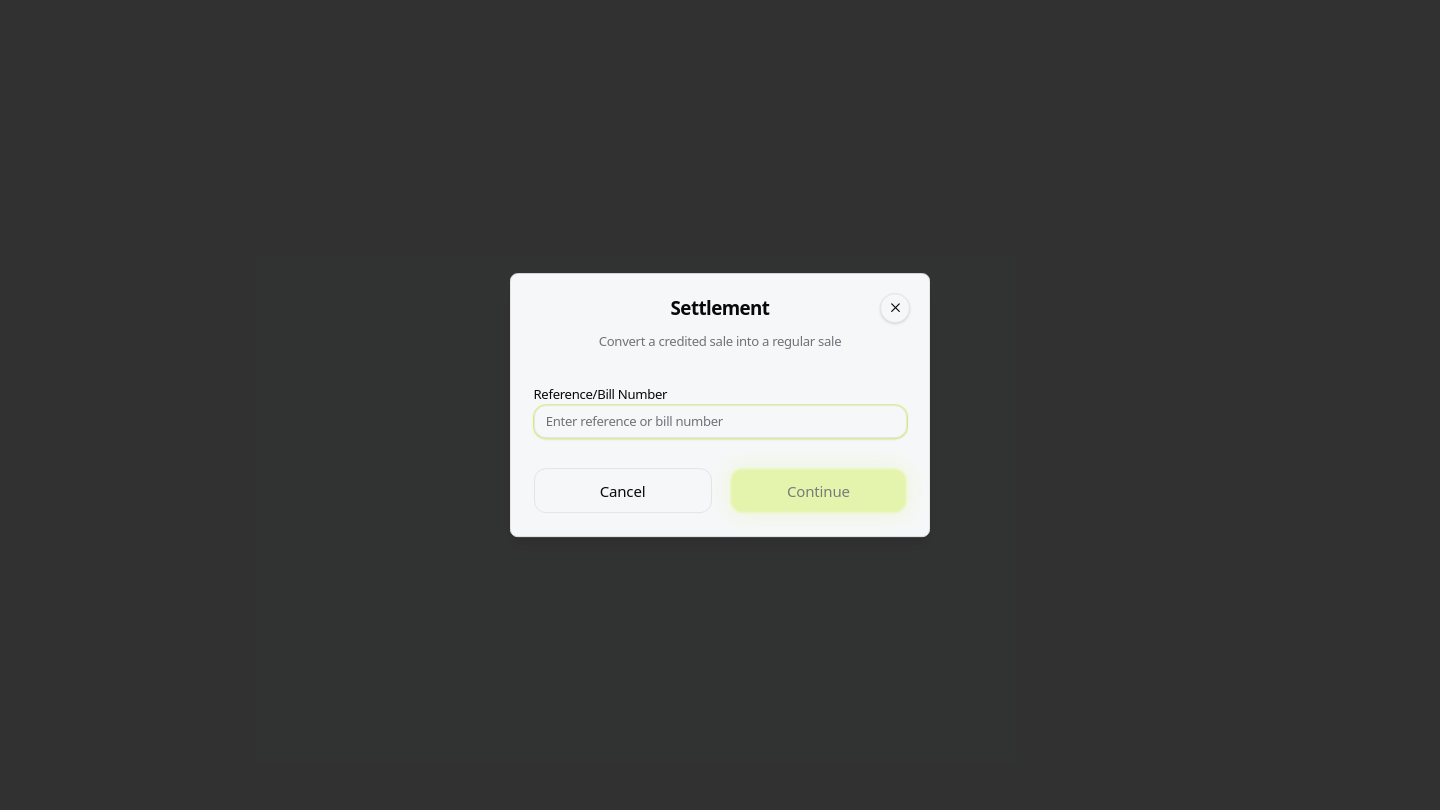
SettlementDialog - settlement payment options › shows cash, card, and mobile pay choices on the confirm step
Type "A011230926" into the field with placeholder "Enter reference or bill number".
click(720, 422); type("A011230926")  # box [534,405,906,438]
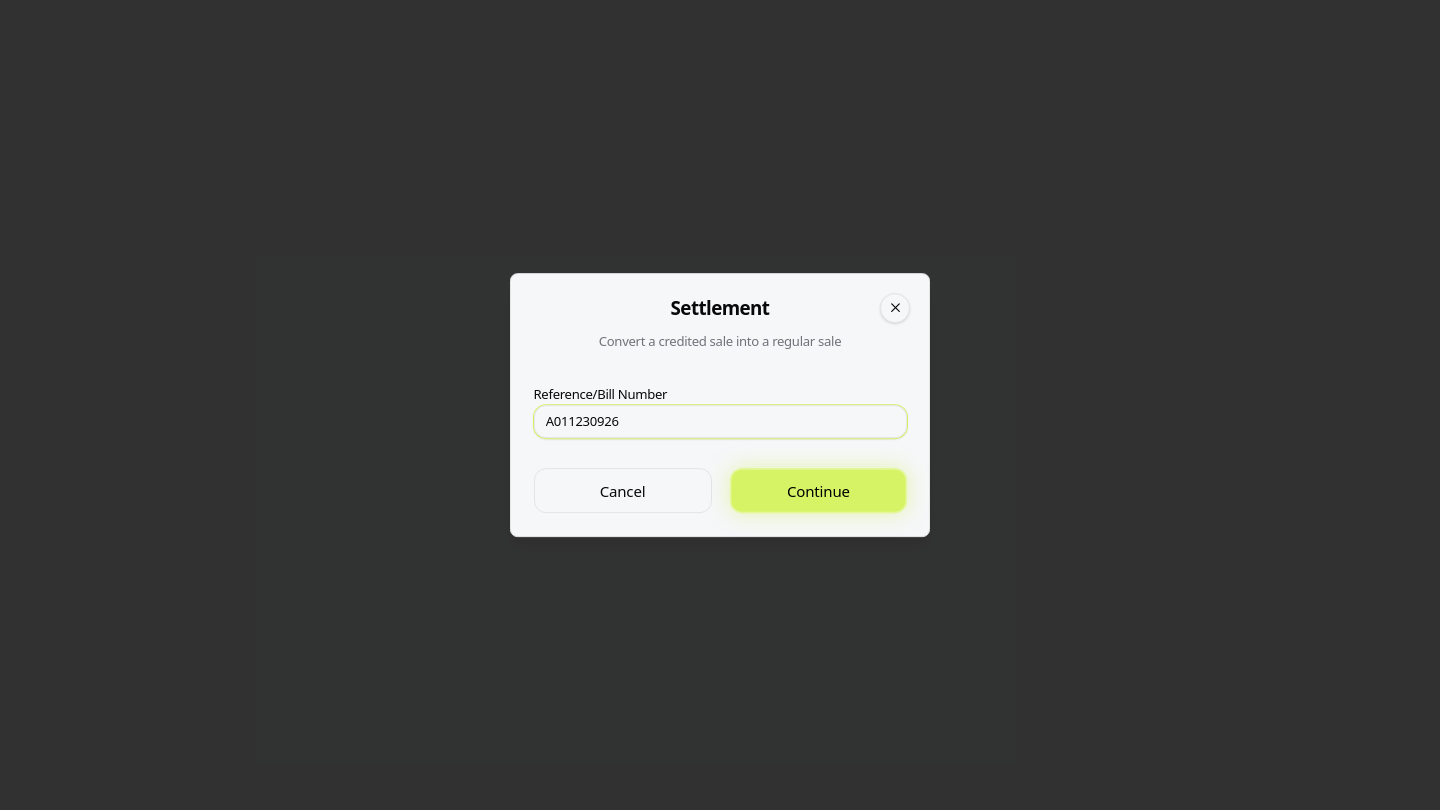
Click the button "Continue".
click(818, 491)  # box [730,468,906,513]
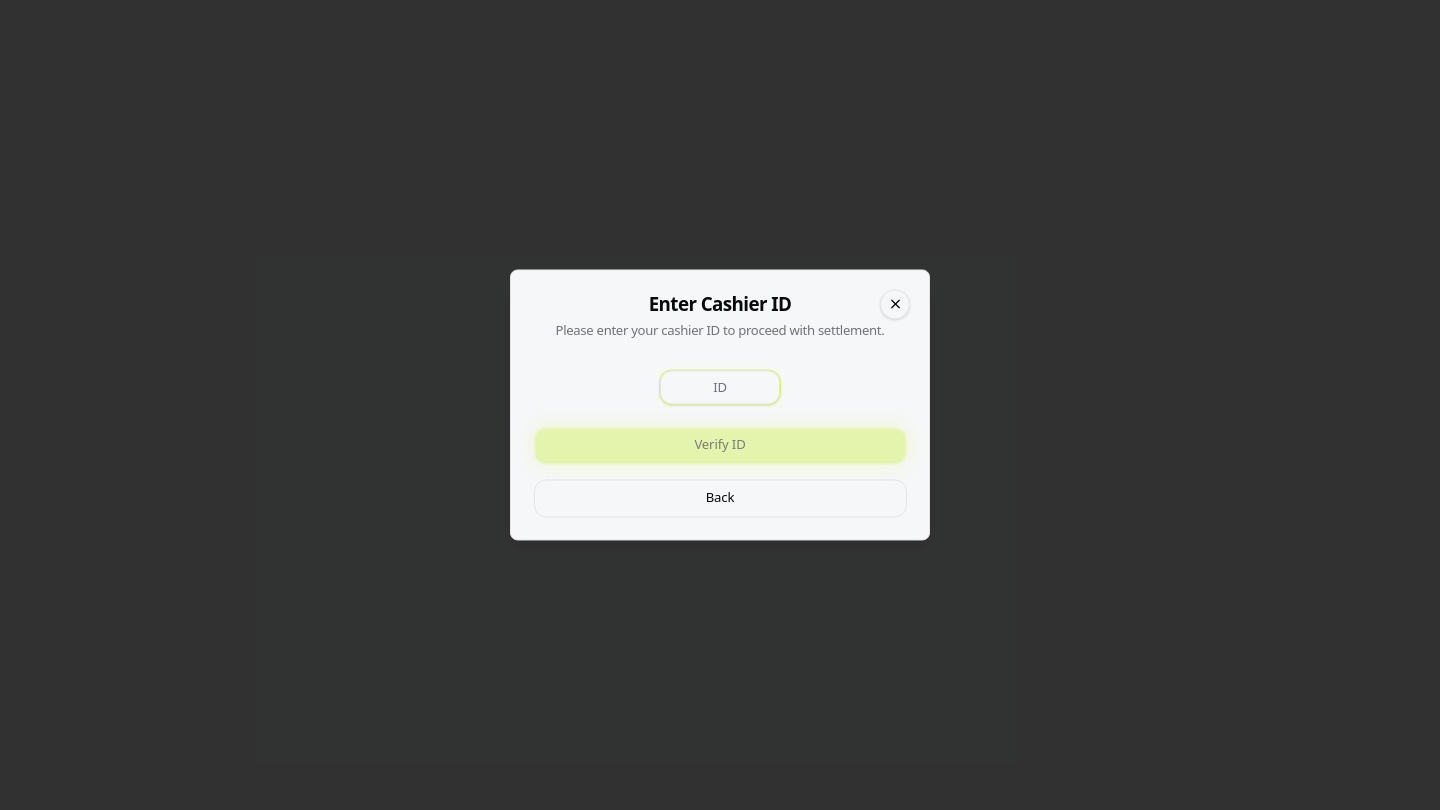
Type "0001" into the field with placeholder "ID".
click(720, 388); type("0001")  # box [660,371,780,405]
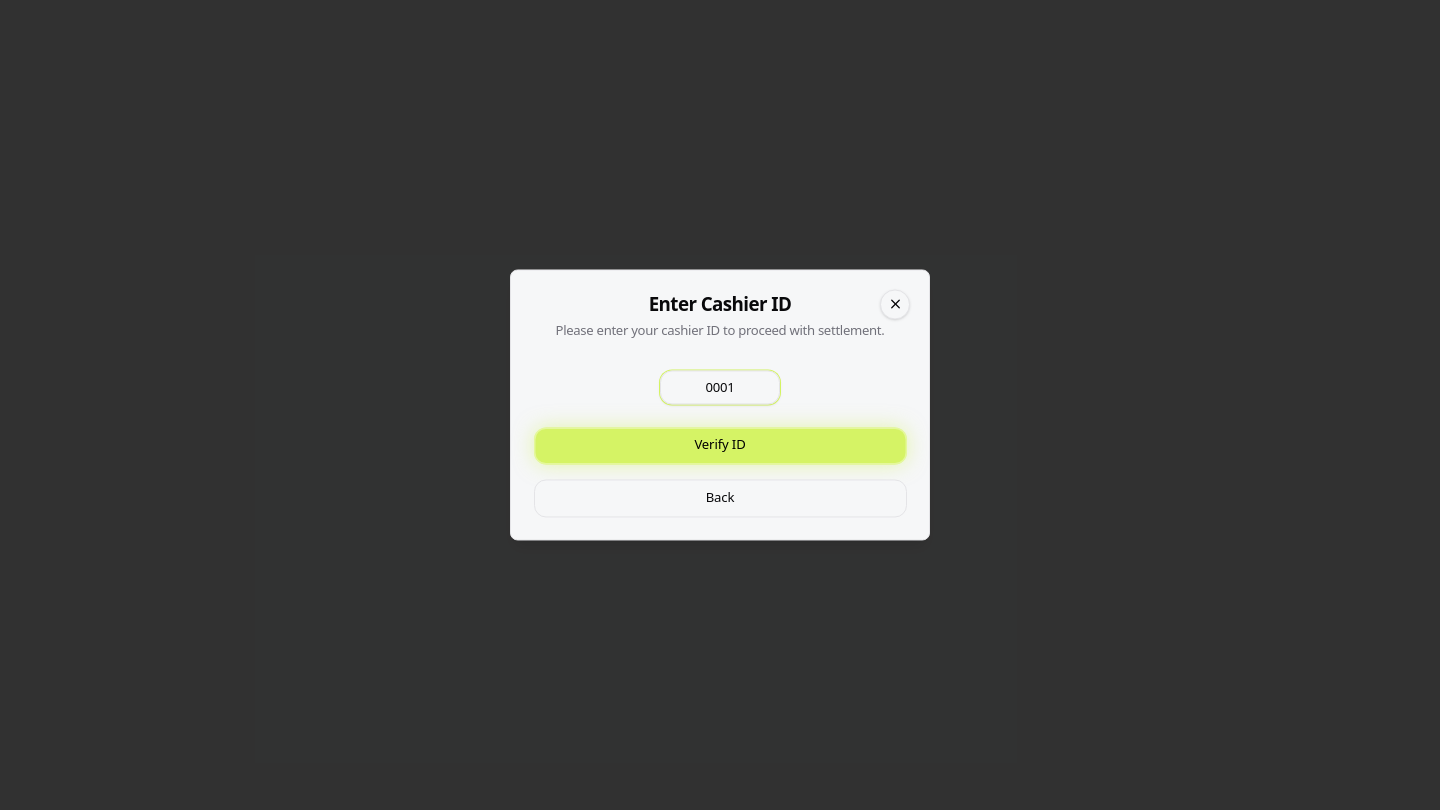
Click the button "Verify ID".
click(720, 446)  # box [534,427,906,464]
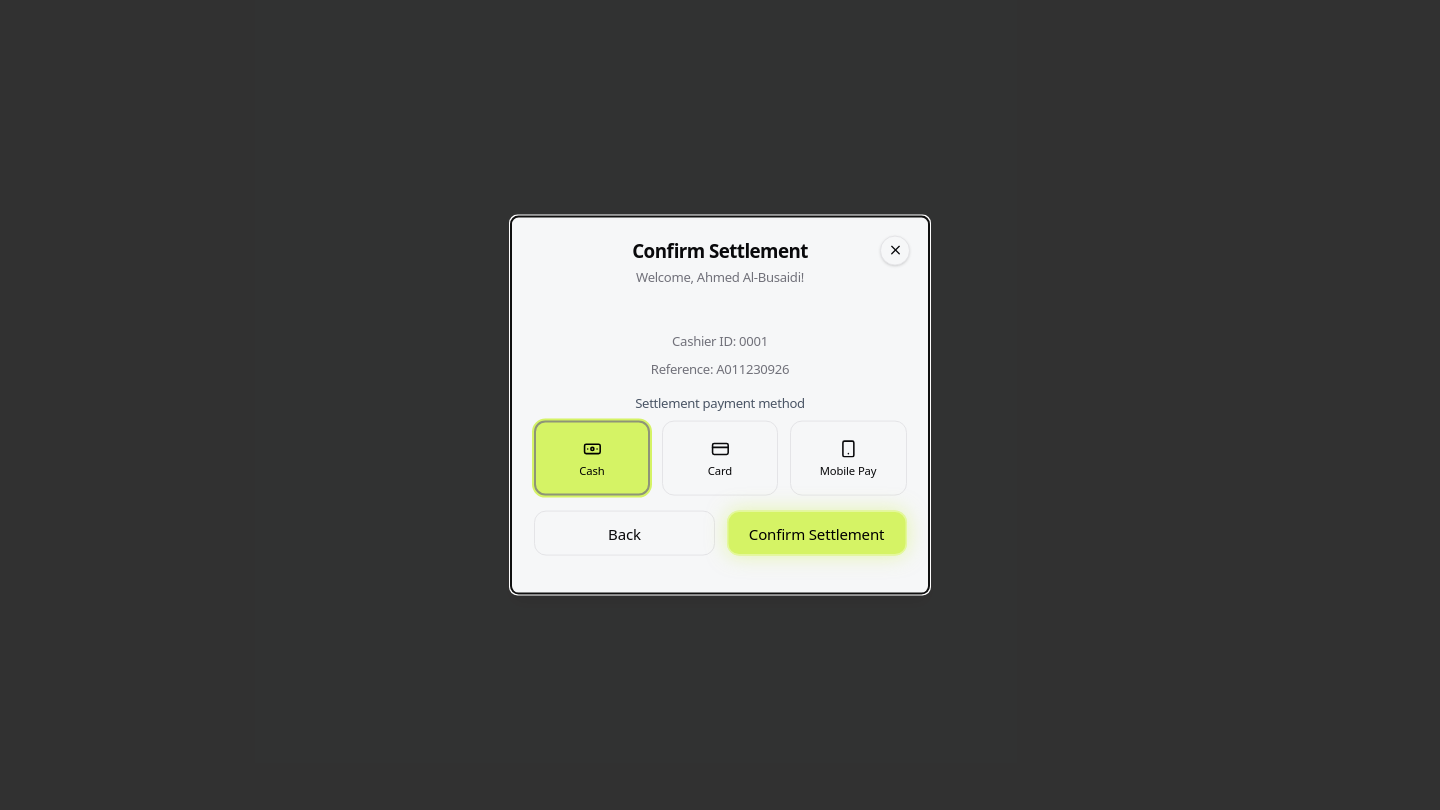
Expected: the radio button labelled "Cash" is shown, [534,421,650,496]
Expected: the button "Confirm Settlement" is shown, [727,511,906,556]
Expected: the radio button labelled "Card" is shown, [662,421,778,496]
